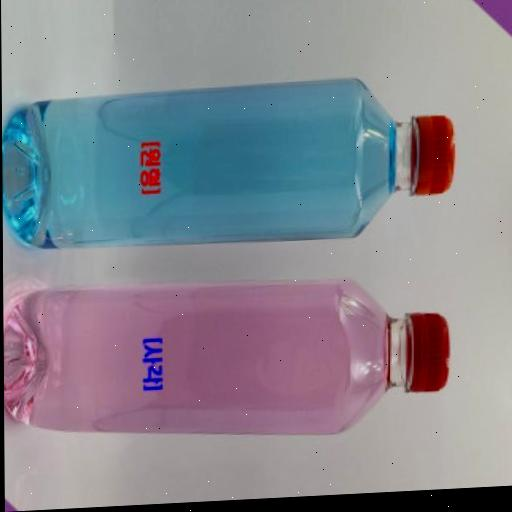bottle: (2, 252, 483, 483), (1, 49, 481, 262)
